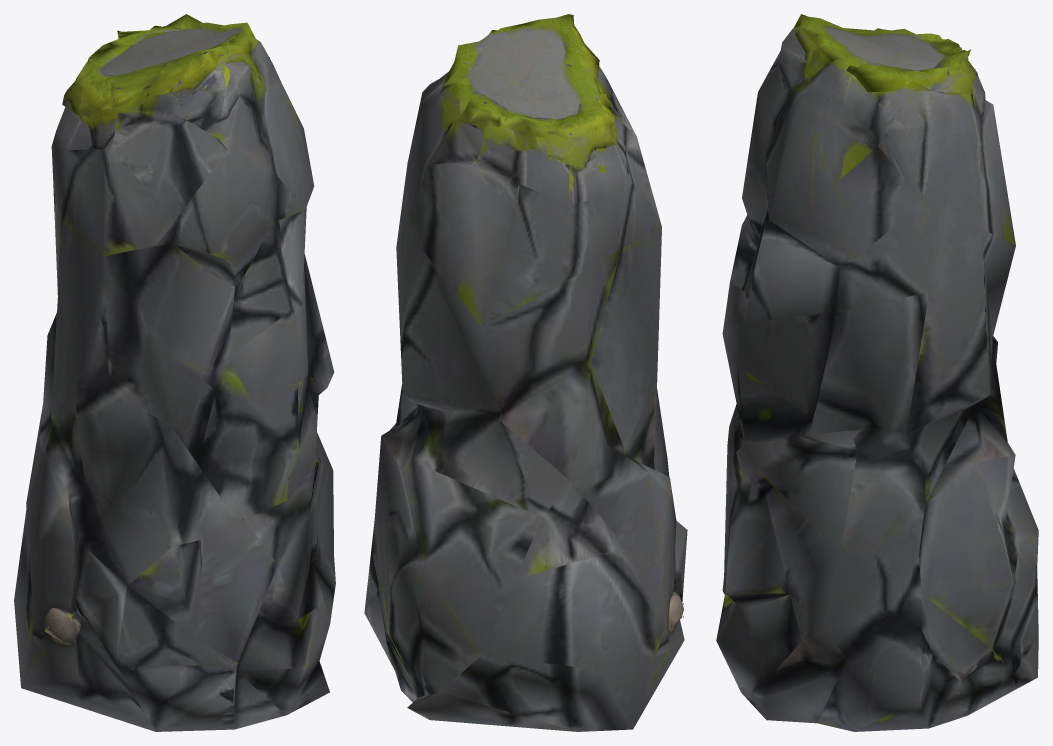
Rendered from cliff_rock_lo.glb.
3 views of the same model, side by side, from view 1: azimuth 30°, elevation 25°; view 2: azimuth 150°, elevation 25°; view 3: azimuth 270°, elevation 25° (orthographic). The views are drawn at different scales.
Size of the model in its own units: 0.4458 by 0.9497 by 0.4229.
Materials: 1 (1 with a texture image).
